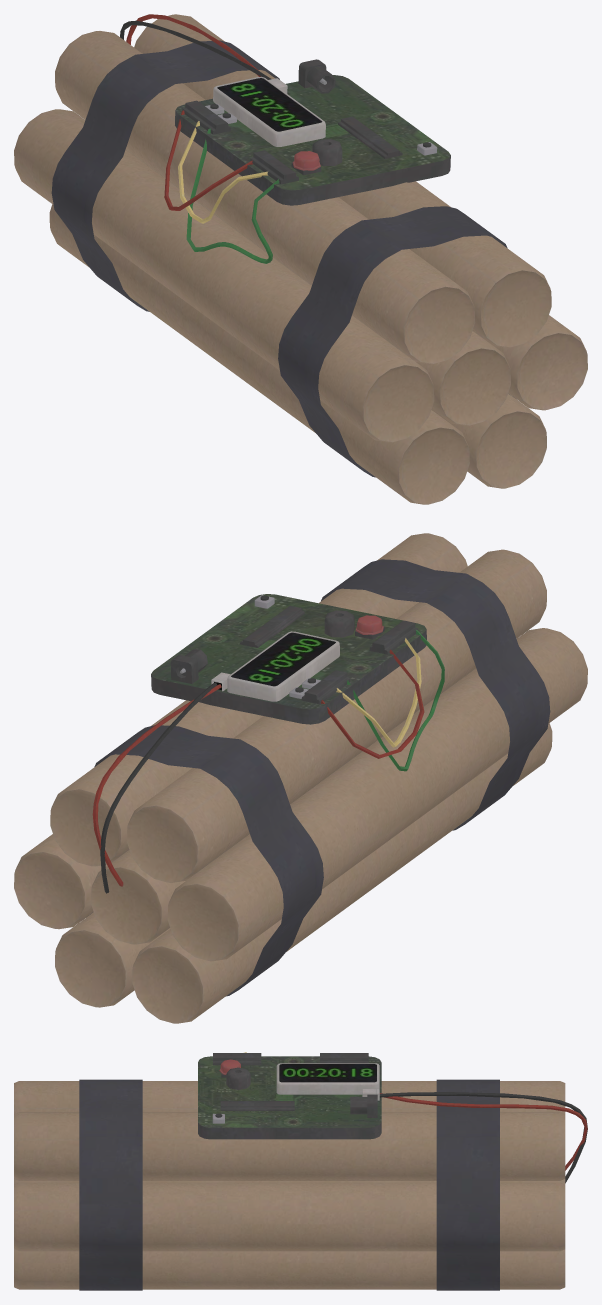
The picture shows the model from 3 angles, top to bottom: view 1: azimuth 30°, elevation 25°; view 2: azimuth 150°, elevation 25°; view 3: azimuth 270°, elevation 25°; orthographic projection. The views are drawn at different scales.
Parts seen in each view (by area): view 1: c4_body; view 2: c4_body; view 3: c4_body.
Boxes of the visible parts, bbox=[...] form: c4_body: bbox=[14, 14, 587, 504]; c4_body: bbox=[14, 533, 587, 1023]; c4_body: bbox=[14, 1052, 587, 1290].
Bounding box in the file's own units: 0.1047 × 0.1101 × 0.28.
1 material, 1 textured.
